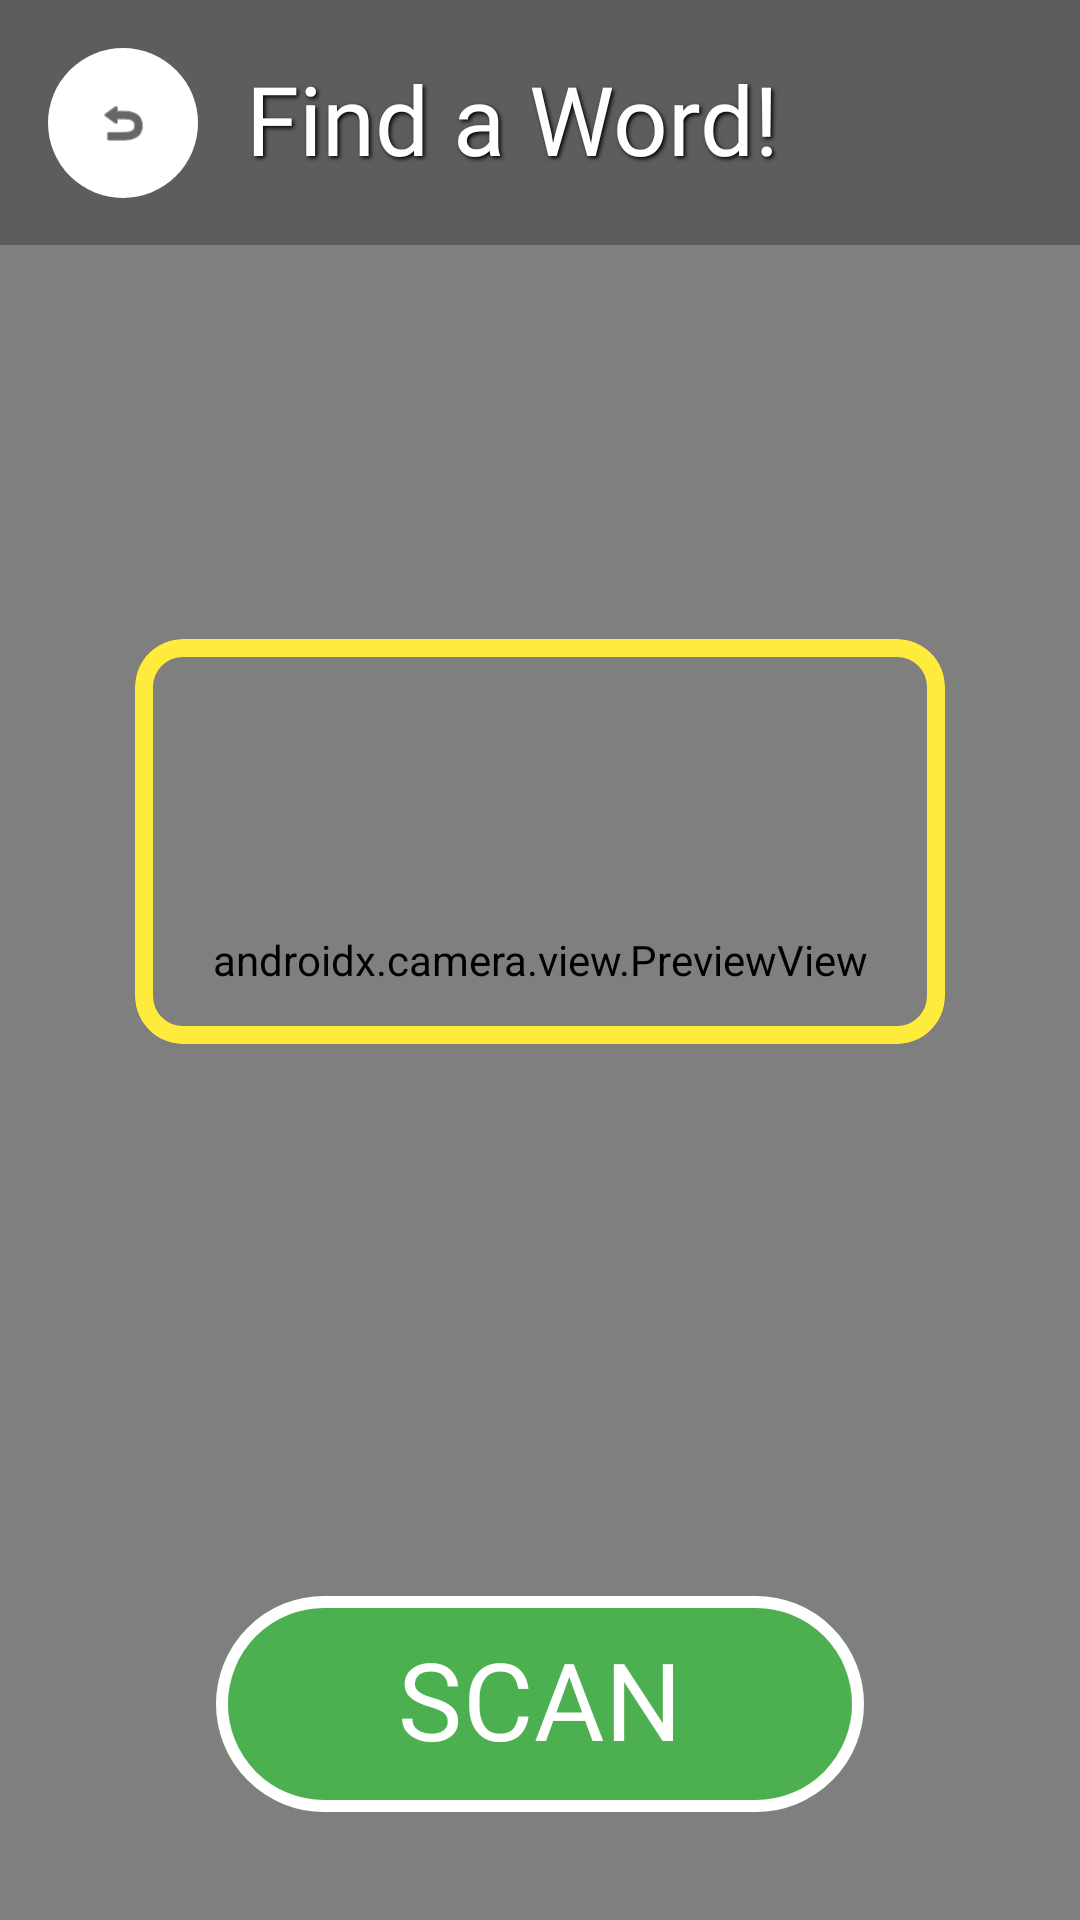

Screen size 1080 × 1920. Icon name, then its center in pixels as point (x, y):
revert: point (123, 123)
